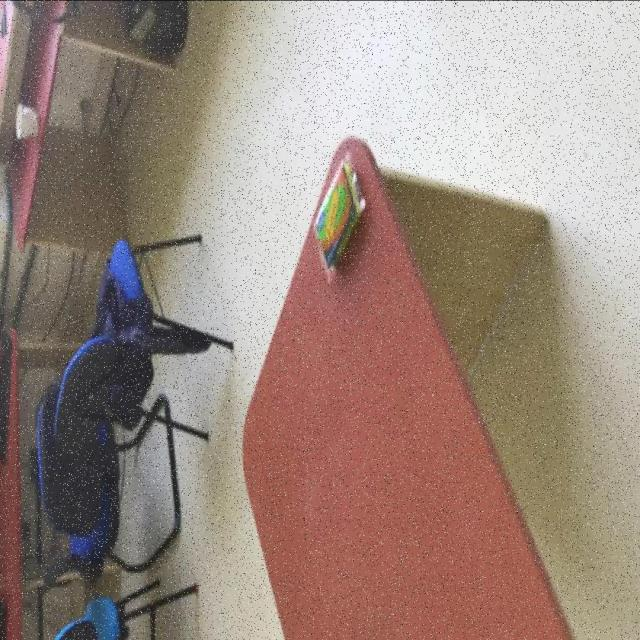Sponge: (313, 160, 366, 286)
